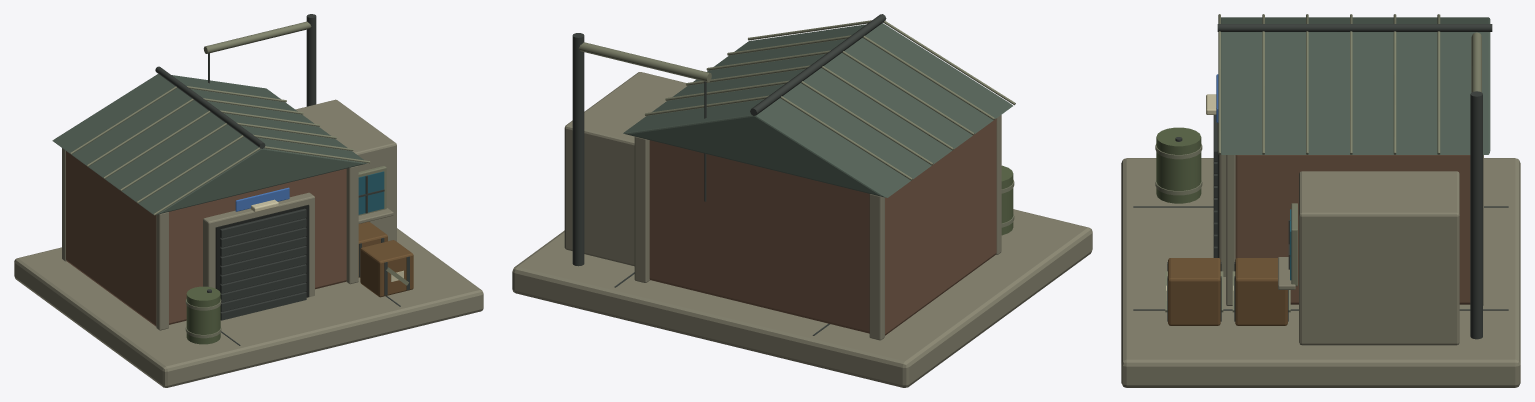
File: supplyexchange.glb
3 views of the same model, side by side, from view 1: azimuth 30°, elevation 25°; view 2: azimuth 150°, elevation 25°; view 3: azimuth 270°, elevation 25° (orthographic). The views are drawn at different scales.
Parts seen in each view (by area): view 1: Concrete, RoofMetal, Masonry, Steel, EdgeSteel, Timber, Armor, Tracks, Optics, TeamColor; view 2: Concrete, Masonry, RoofMetal, EdgeSteel, Steel, Armor; view 3: Concrete, RoofMetal, Masonry, Steel, Timber, EdgeSteel, Armor, Tracks.
Boxes of the visible parts, x1,y1,x2,y2 form: Concrete: (14, 99, 483, 387); RoofMetal: (52, 74, 367, 214); Masonry: (66, 151, 346, 326); Steel: (155, 14, 409, 345); EdgeSteel: (70, 21, 408, 338); Timber: (358, 221, 413, 297); Armor: (186, 286, 220, 344); Tracks: (215, 204, 309, 297); Optics: (358, 171, 384, 214); TeamColor: (235, 187, 289, 211); Concrete: (512, 72, 1092, 387); Masonry: (649, 118, 996, 335); RoofMetal: (623, 23, 1012, 197); EdgeSteel: (578, 20, 1015, 227); Steel: (572, 14, 886, 335); Armor: (1001, 165, 1013, 235); Concrete: (1121, 154, 1520, 387); RoofMetal: (1221, 17, 1490, 154); Masonry: (1235, 155, 1470, 304); Steel: (1133, 24, 1508, 339); Timber: (1168, 258, 1287, 325); EdgeSteel: (1155, 14, 1481, 312); Armor: (1156, 127, 1201, 203); Tracks: (1217, 123, 1219, 257).
Bounding box in the file's own units: 5 × 3.07 × 4.1.
